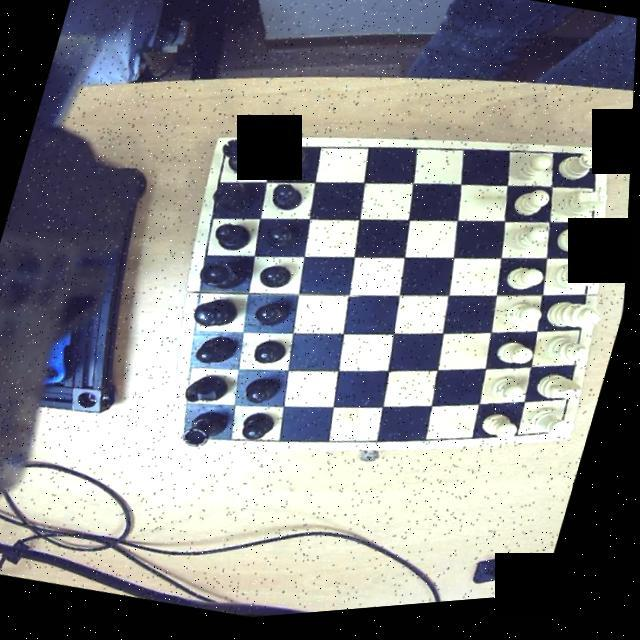chess-table-corners: (174, 422, 207, 454), (210, 138, 242, 170), (576, 152, 610, 180), (550, 424, 579, 452)
